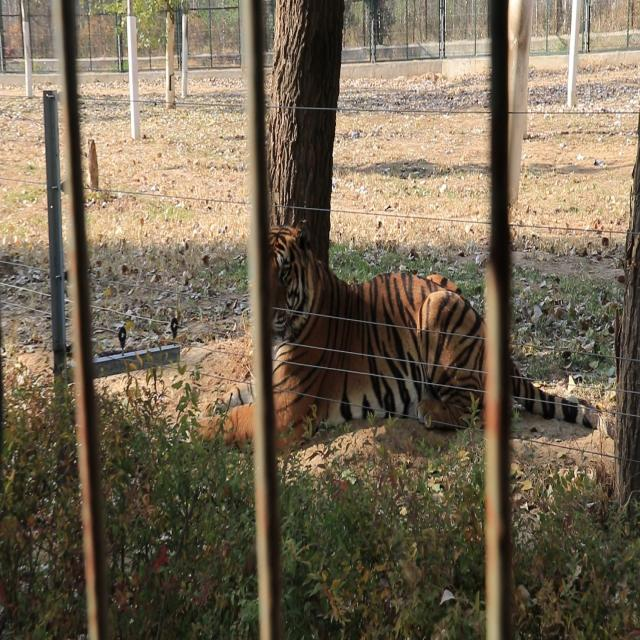Tiger: (188, 225, 601, 481)
